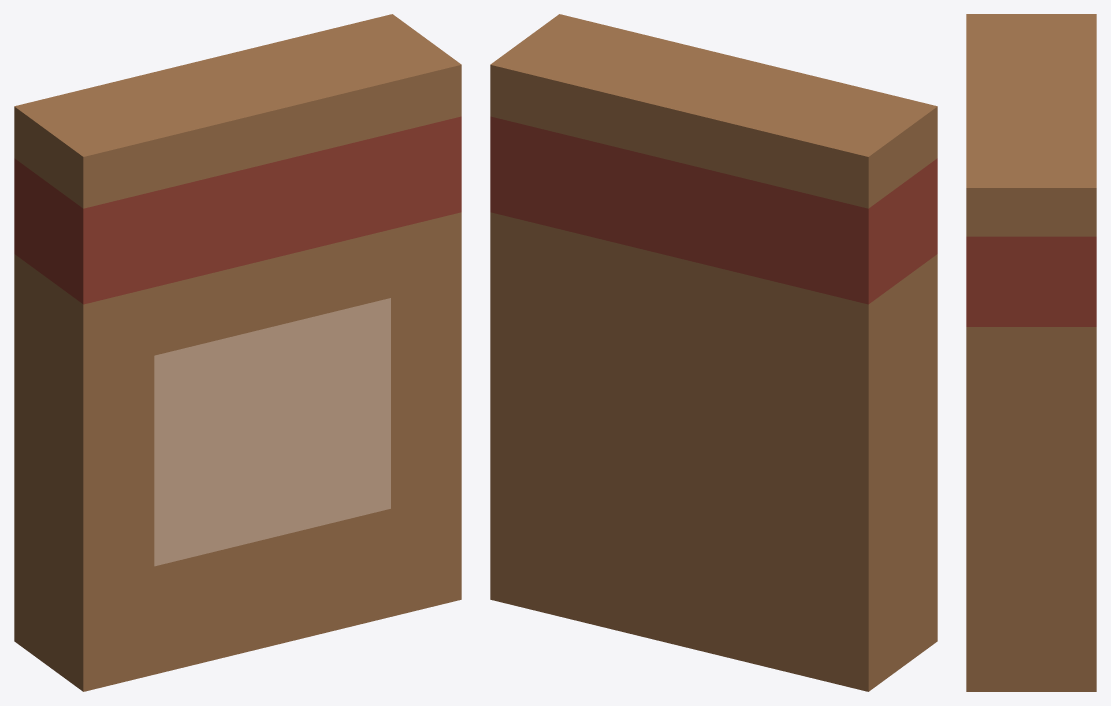
File: FoodBox_02.fbx
3 renders of one model, left to right at view 1: azimuth 30°, elevation 25°; view 2: azimuth 150°, elevation 25°; view 3: azimuth 270°, elevation 25°, orthographic. The views are drawn at different scales.
Parts seen in each view (by area): view 1: FoodBox_02; view 2: FoodBox_02; view 3: FoodBox_02.
Part boxes in pixels (box(x1,y1,x2,y2)): FoodBox_02: box(14, 14, 461, 691); FoodBox_02: box(490, 14, 937, 691); FoodBox_02: box(966, 14, 1096, 691).
Bounding box in the file's own units: 21.95 × 29.66 × 6.96.
